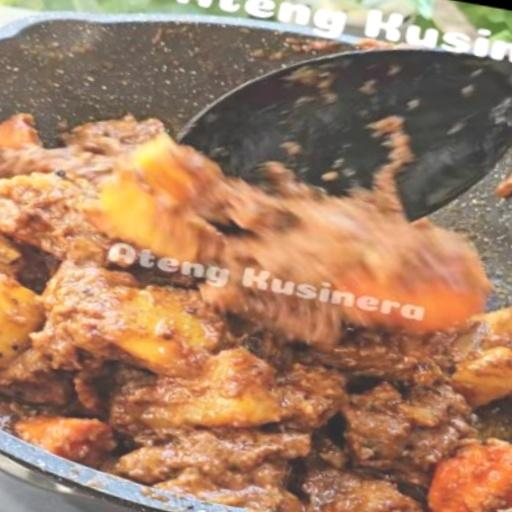pork caldereta: (0, 119, 511, 511)
